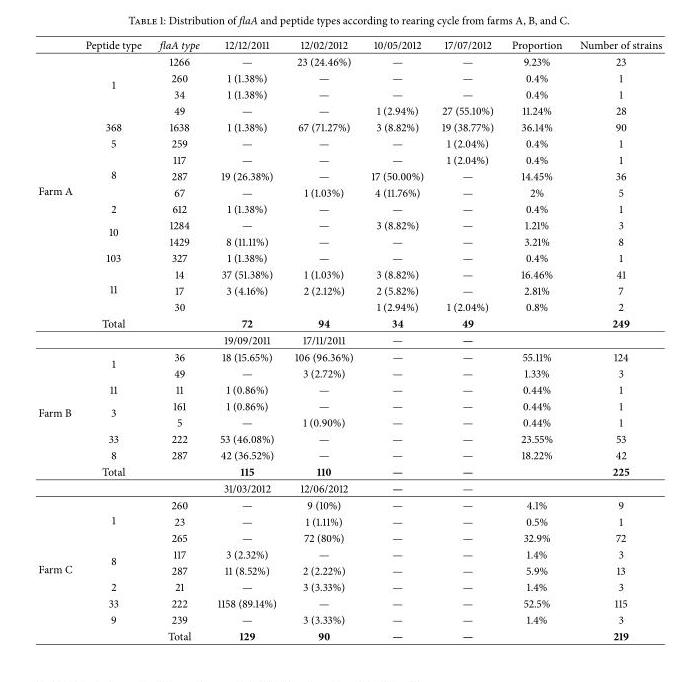table: (37, 36, 661, 643)
table column: (570, 36, 661, 643), (207, 36, 285, 643), (285, 36, 361, 643), (361, 36, 432, 643), (432, 36, 502, 643), (78, 36, 147, 643), (502, 36, 570, 643), (147, 36, 207, 643), (37, 36, 78, 643)
table column header: (37, 36, 661, 52)
table row: (37, 52, 661, 69), (37, 85, 661, 102), (37, 134, 661, 151), (37, 183, 661, 200), (37, 232, 661, 249), (37, 265, 661, 282), (37, 314, 661, 331), (37, 331, 661, 348), (37, 364, 661, 381), (37, 413, 661, 430), (37, 462, 661, 479), (37, 479, 661, 496), (37, 512, 661, 529), (37, 545, 661, 562), (37, 594, 661, 611), (37, 36, 661, 52), (37, 69, 661, 85), (37, 102, 661, 118), (37, 118, 661, 134), (37, 151, 661, 167), (37, 167, 661, 183), (37, 200, 661, 216), (37, 216, 661, 232), (37, 249, 661, 265), (37, 282, 661, 298), (37, 298, 661, 314), (37, 348, 661, 364), (37, 381, 661, 397), (37, 397, 661, 413), (37, 430, 661, 446), (37, 446, 661, 462), (37, 496, 661, 512), (37, 529, 661, 545), (37, 562, 661, 578), (37, 578, 661, 594), (37, 611, 661, 627), (37, 627, 661, 643)
table spanning cell: (37, 52, 78, 348), (37, 348, 78, 496), (37, 496, 78, 643), (78, 52, 147, 118), (78, 151, 147, 200), (78, 265, 147, 314), (78, 496, 147, 545), (78, 216, 147, 249), (78, 348, 147, 381), (78, 397, 147, 430), (78, 545, 147, 578)
